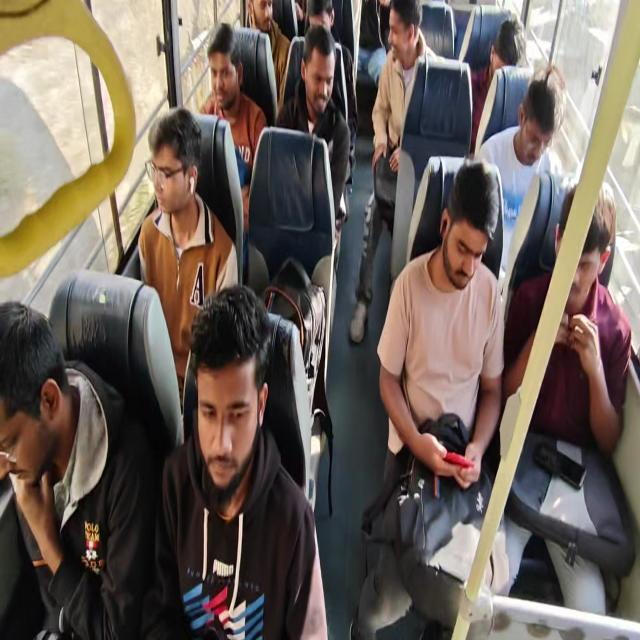person: (0, 300, 77, 487), (189, 309, 260, 492), (437, 178, 492, 302), (127, 127, 196, 216), (558, 206, 600, 310), (200, 31, 244, 105), (514, 89, 555, 166), (300, 42, 342, 108), (491, 21, 528, 83), (388, 6, 415, 66), (247, 0, 277, 44), (304, 0, 336, 40)
